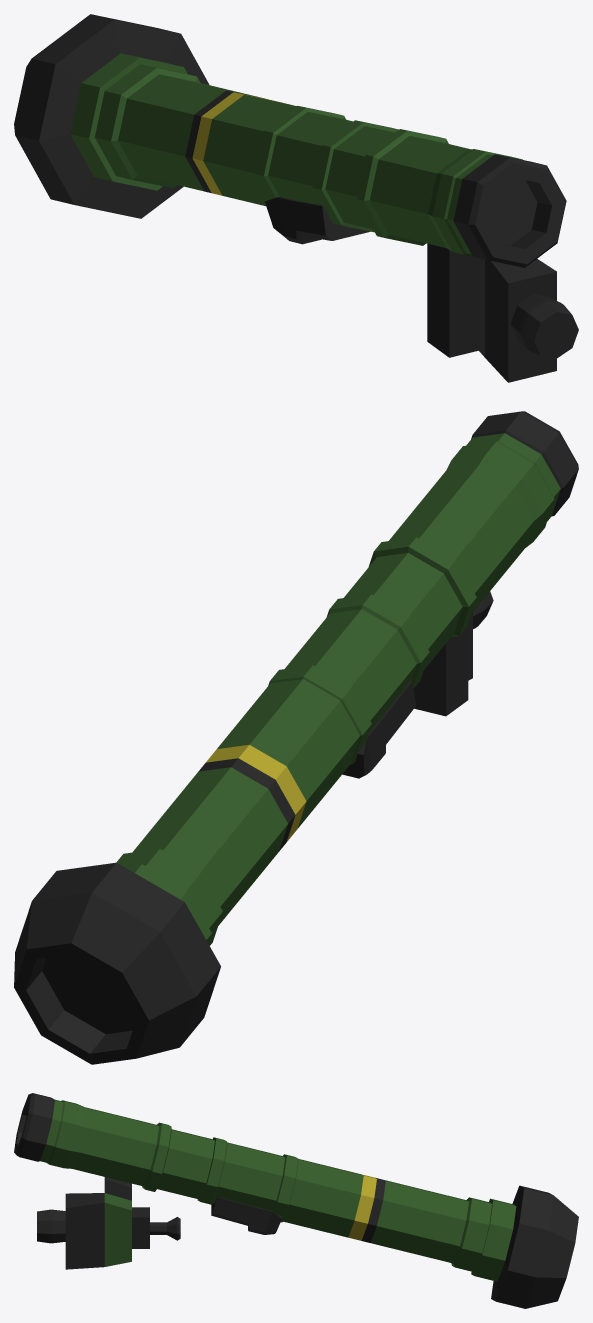
File: FGM 148 Javelin.fbx
3 views of the same model, one above another, from view 1: azimuth 30°, elevation 25°; view 2: azimuth 150°, elevation 25°; view 3: azimuth 270°, elevation 25° (orthographic). The views are drawn at different scales.
Visible parts, largest first — view 1: Body; view 2: Body; view 3: Body.
Boxes of the visible parts, x1,y1,x2,y2 form: Body: (14,14,578,382); Body: (14,411,578,1064); Body: (14,1093,578,1308).
Size of the model in its own units: 137 by 253 by 612.
